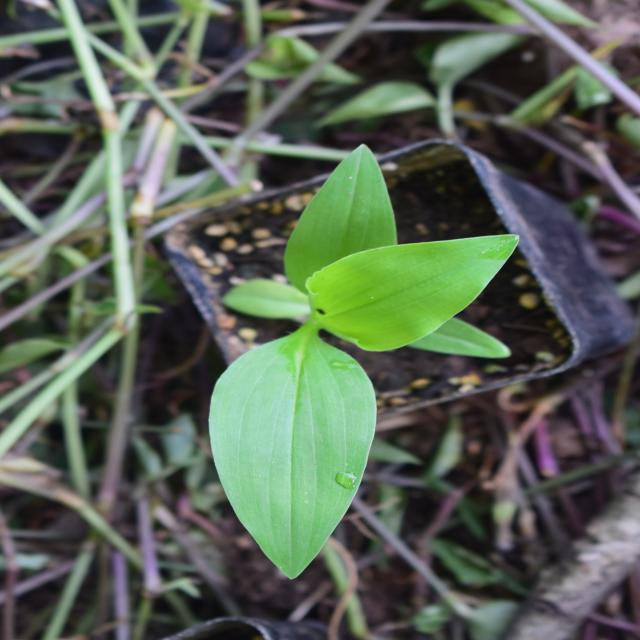Common Dayflower: (75, 201, 492, 521)
